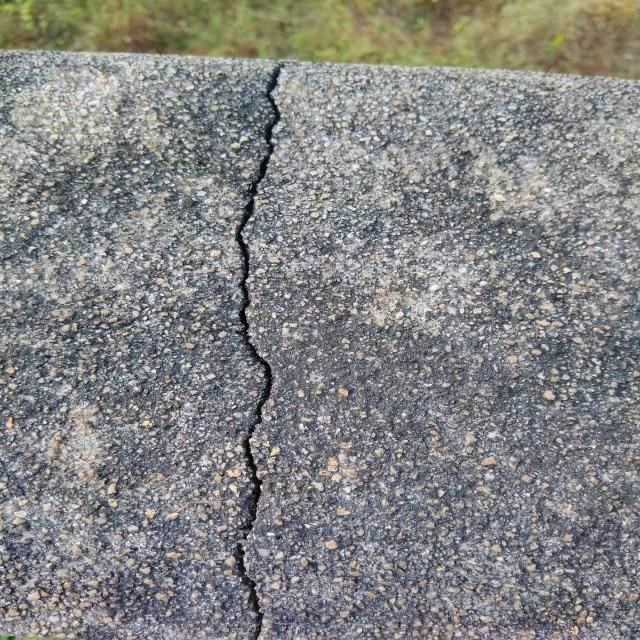SurfaceCrack: (189, 64, 334, 638)
